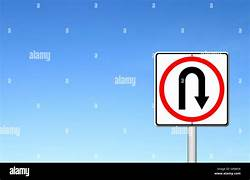back: (158, 55, 225, 121)
